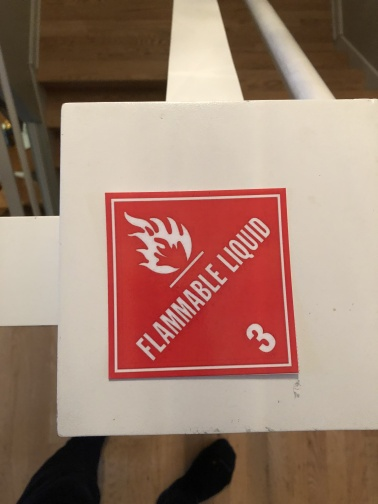FlammableLiquid: (110, 195, 294, 373)
